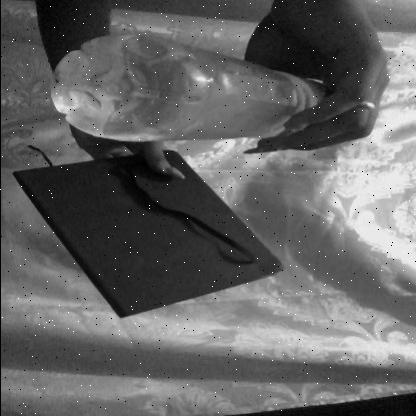Plastic Bottle: (55, 35, 356, 141)
